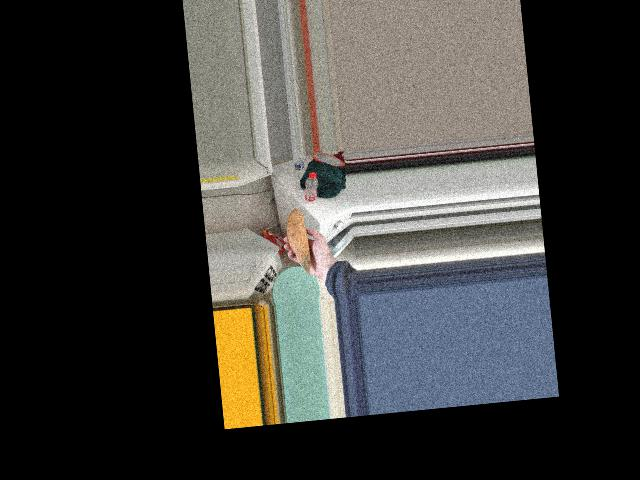sweet_potato: (285, 214, 311, 272)
